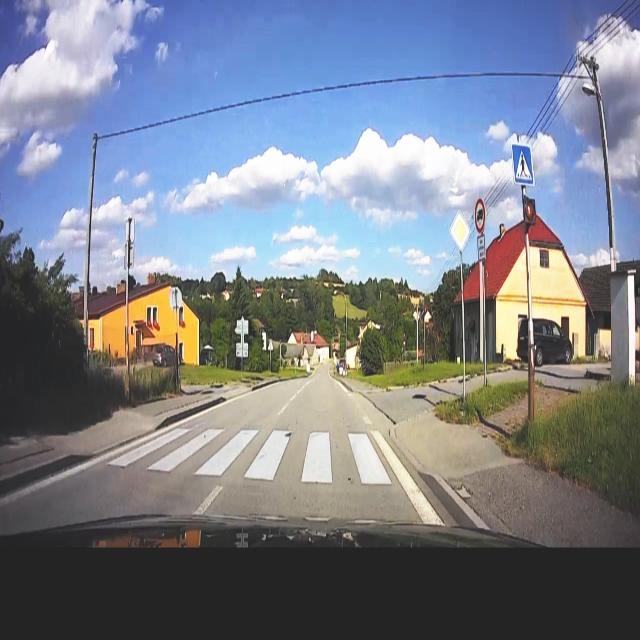Priority road: (450, 209, 472, 250)
